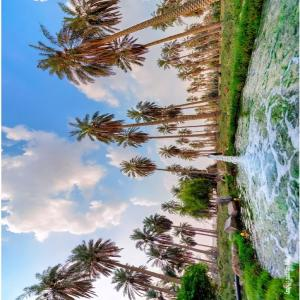palm tree: (15, 263, 97, 300), (65, 238, 123, 280), (68, 110, 125, 144)
